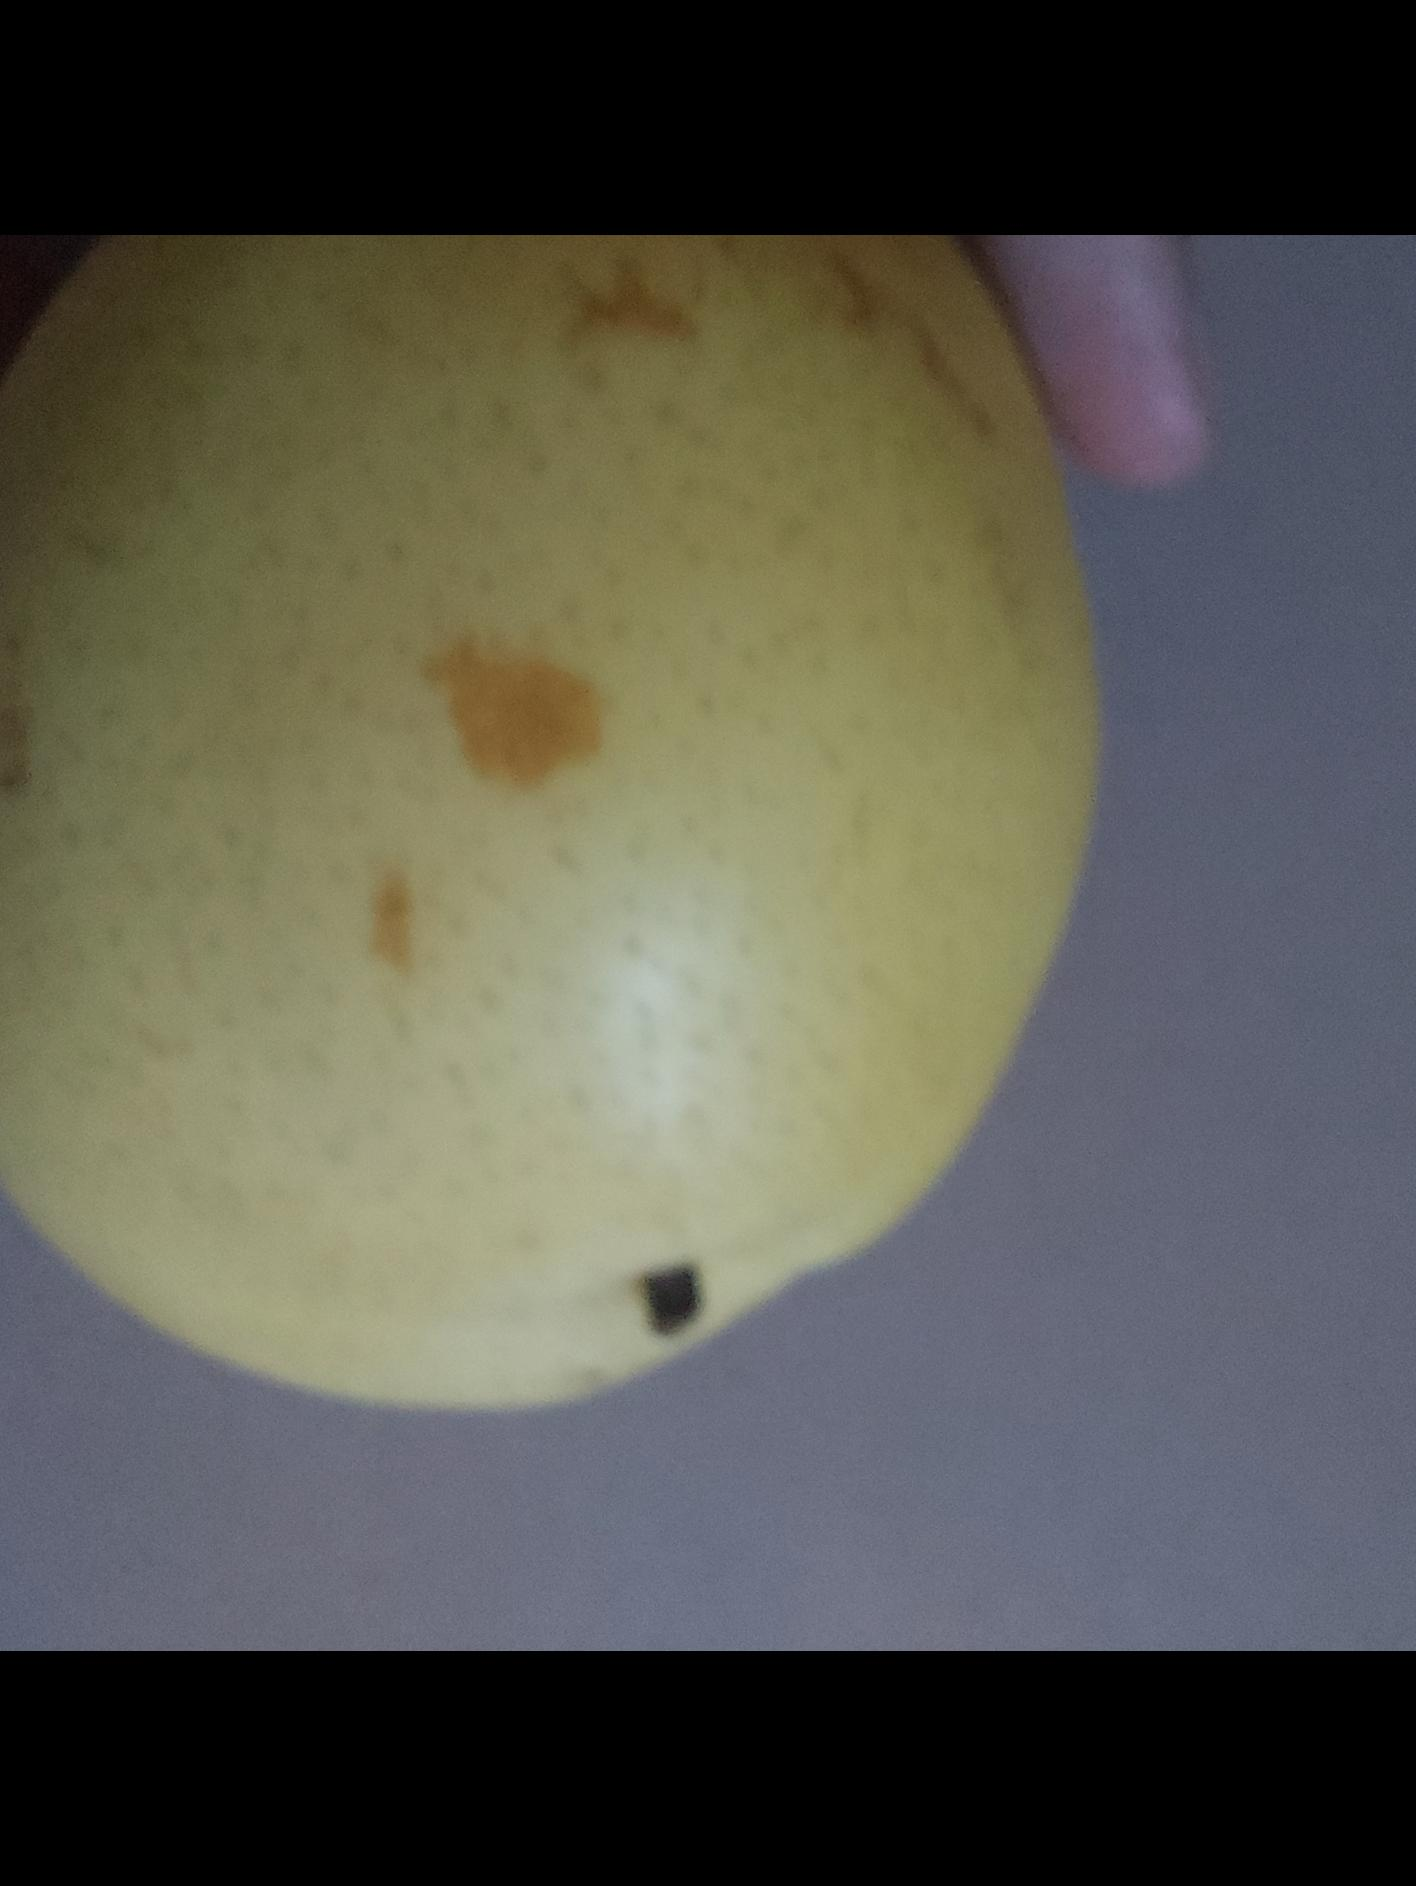Good Pear: (0, 235, 1102, 1415)
